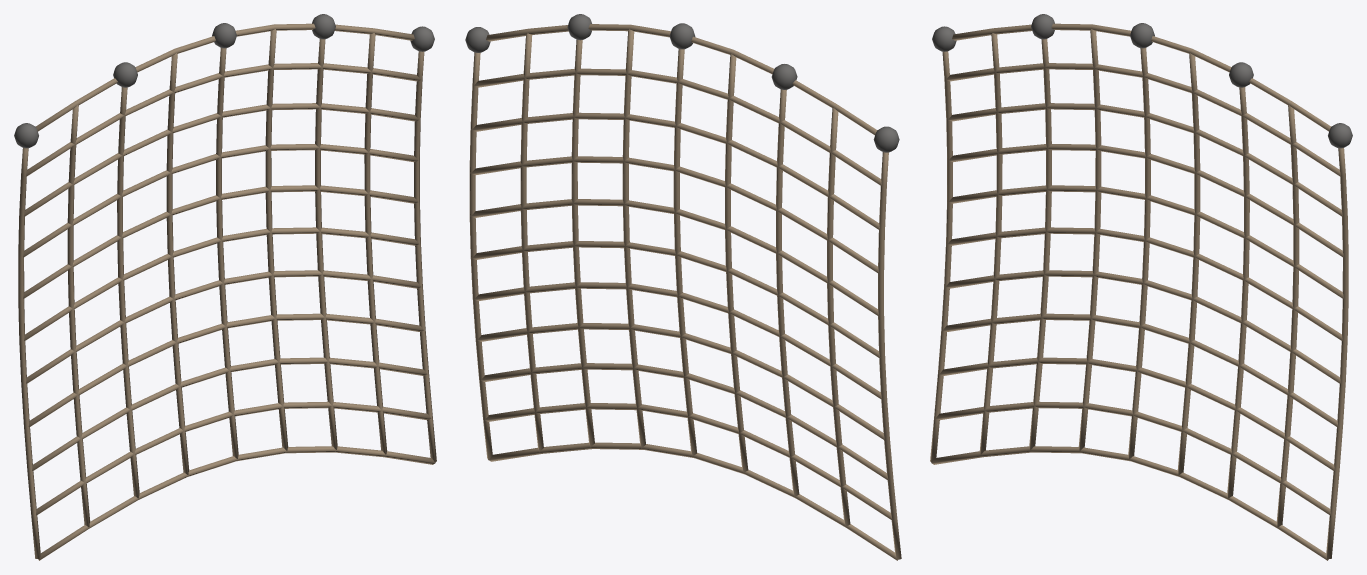
The model's file is net.glb.
3 renders of one model, left to right at view 1: azimuth 30°, elevation 25°; view 2: azimuth 150°, elevation 25°; view 3: azimuth 330°, elevation 25°, orthographic. The views are drawn at different scales.
Visible parts, largest first — view 1: net; view 2: net; view 3: net.
Part boxes in pixels (bbox=[...]): net: bbox=[14, 14, 436, 560]; net: bbox=[465, 14, 901, 560]; net: bbox=[930, 14, 1352, 560].
Bounding box in the file's own units: 0.844 × 0.9276 × 0.0716.
